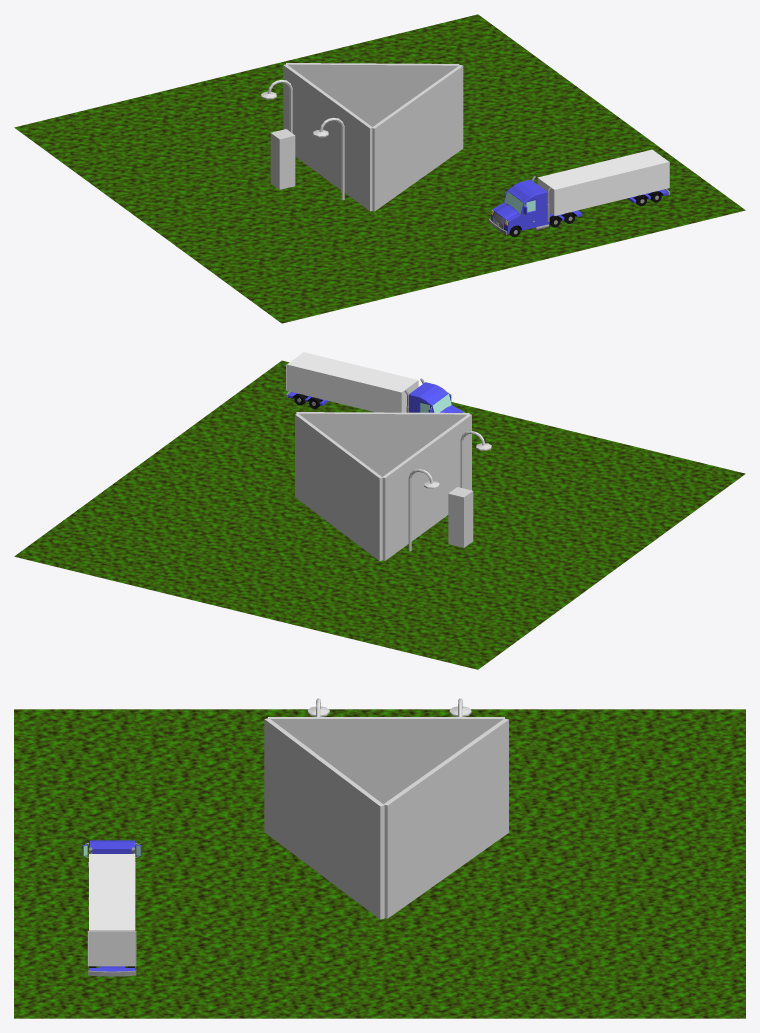
The model's file is light_path_anim_baked.glb.
3 views of the same model, one above another, from view 1: azimuth 30°, elevation 25°; view 2: azimuth 150°, elevation 25°; view 3: azimuth 270°, elevation 25° (orthographic). The views are drawn at different scales.
Visible parts, largest first — view 1: Plane, Cube.003, Trailer, Cube.001, Cab, Cube, Street Light Post.002; view 2: Plane, Cube.003, Trailer, Cube.001, Cube, Cab; view 3: Plane, Cube.003, Trailer, Cube.001, Cab, Right Door, Right Door.001.
Part boxes in pixels (box(x1,y1,x2,y2)): Plane: box(14, 14, 745, 323); Cube.003: box(283, 63, 463, 211); Trailer: box(537, 149, 669, 215); Cube.001: box(283, 93, 372, 211); Cab: box(488, 175, 582, 234); Cube: box(270, 129, 295, 189); Street Light Post.002: box(313, 117, 344, 200); Plane: box(14, 360, 745, 669); Cube.003: box(295, 412, 471, 560); Trailer: box(286, 352, 418, 412); Cube.001: box(382, 443, 471, 560); Cube: box(448, 487, 473, 547); Cab: box(404, 378, 464, 412); Plane: box(14, 709, 745, 1018); Cube.003: box(264, 717, 508, 919); Trailer: box(88, 854, 136, 976); Cube.001: box(321, 757, 448, 803); Cab: box(82, 840, 141, 912); Right Door: box(112, 931, 136, 965); Right Door.001: box(87, 931, 111, 965).
Bounding box in the file's own units: 58.74 × 10.24 × 58.74.
3 materials, 2 textured.
